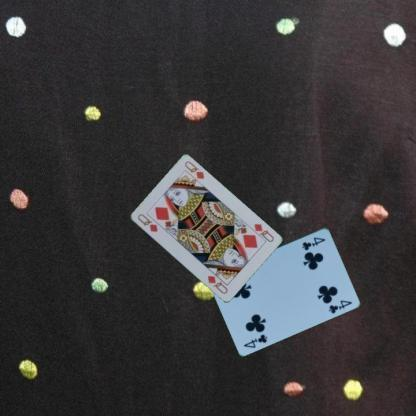4c: (242, 332, 269, 350), (300, 235, 326, 252)
Qd: (246, 222, 275, 244), (134, 211, 160, 234)
